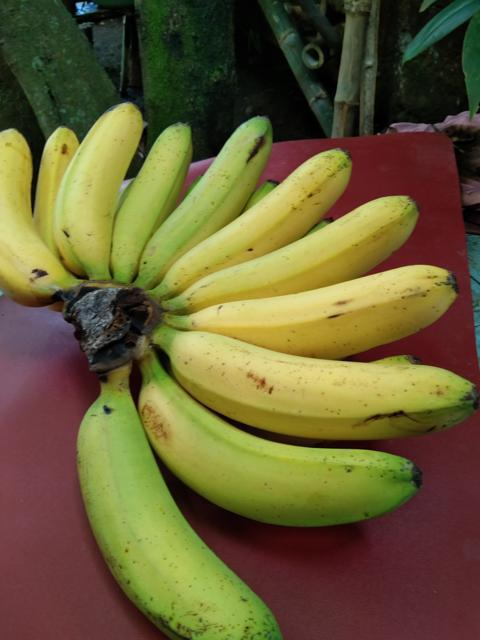freshripe: (129, 383, 427, 537), (184, 183, 421, 309), (154, 140, 348, 291), (52, 94, 149, 277)
ripe: (162, 324, 471, 442)
